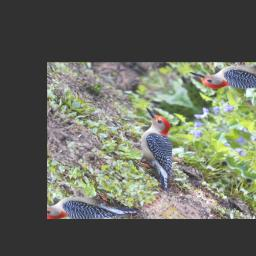Woodpecker: (99, 106, 216, 193)
